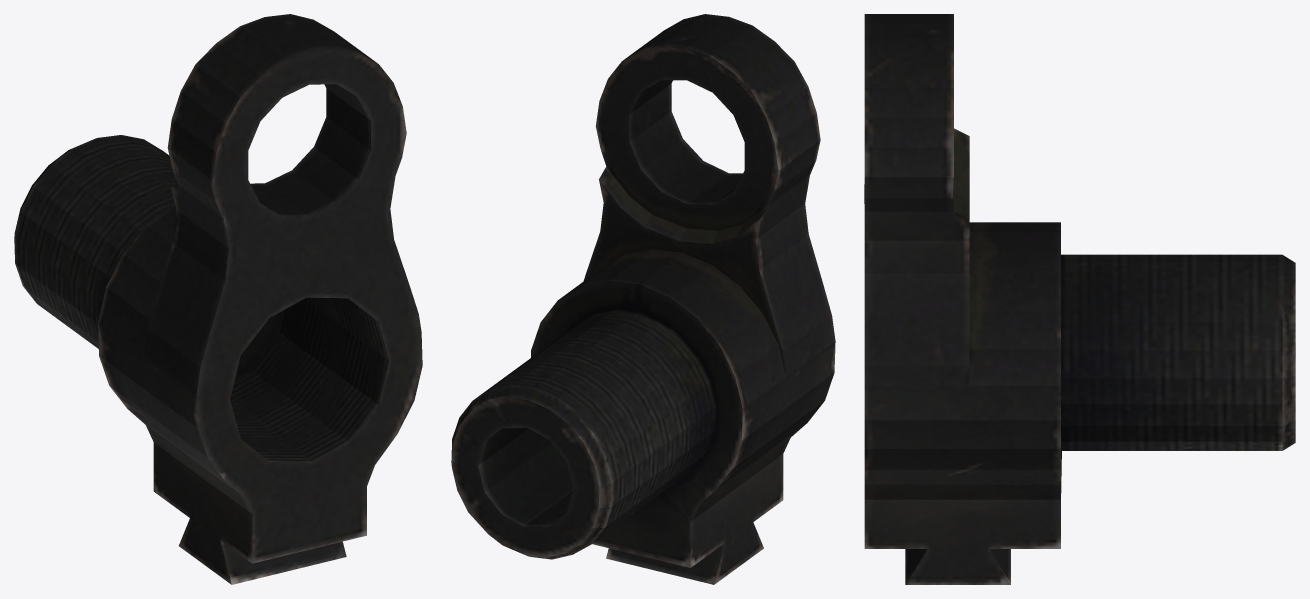
3 views of the same model, side by side, from view 1: azimuth 30°, elevation 25°; view 2: azimuth 150°, elevation 25°; view 3: azimuth 270°, elevation 25° (orthographic). The views are drawn at different scales.
Visible parts, largest first — view 1: TW_5ab3afb2d8ce87001660304d_PZ_Import; view 2: TW_5ab3afb2d8ce87001660304d_PZ_Import; view 3: TW_5ab3afb2d8ce87001660304d_PZ_Import.
Boxes of the visible parts, x1,y1,x2,y2 form: TW_5ab3afb2d8ce87001660304d_PZ_Import: (14, 14, 422, 584); TW_5ab3afb2d8ce87001660304d_PZ_Import: (451, 14, 835, 584); TW_5ab3afb2d8ce87001660304d_PZ_Import: (864, 14, 1295, 584).
Bounding box in the file's own units: 0.0134 × 0.0222 × 0.0303.
1 material, 1 textured.
